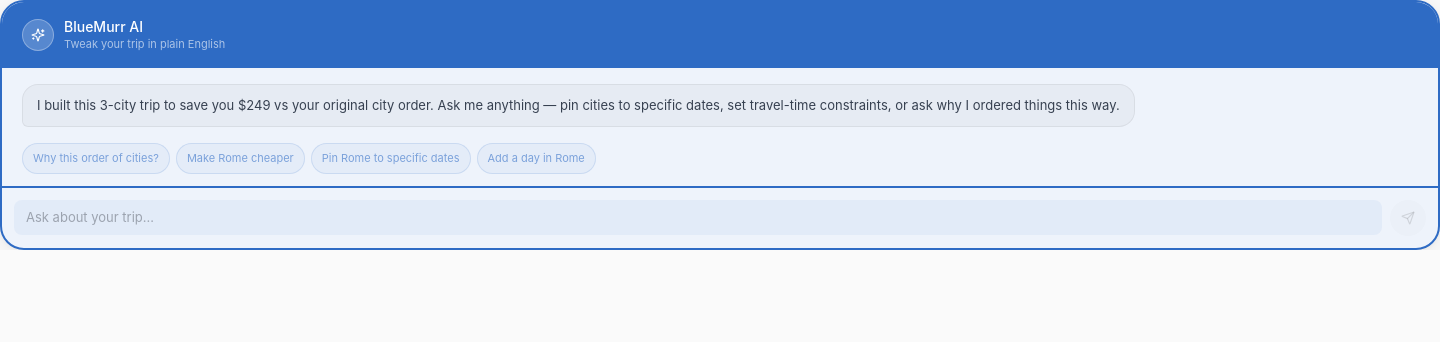
Test: a leg refresh on a trip that visits a city twice › Florence → Rome lands on Florence and the SECOND Rome, leaving the first Rome alone
Type "cheaper trains please" into the field with placeholder "Ask about your trip..." at x=698, y=218, box [14,200,1382,235]
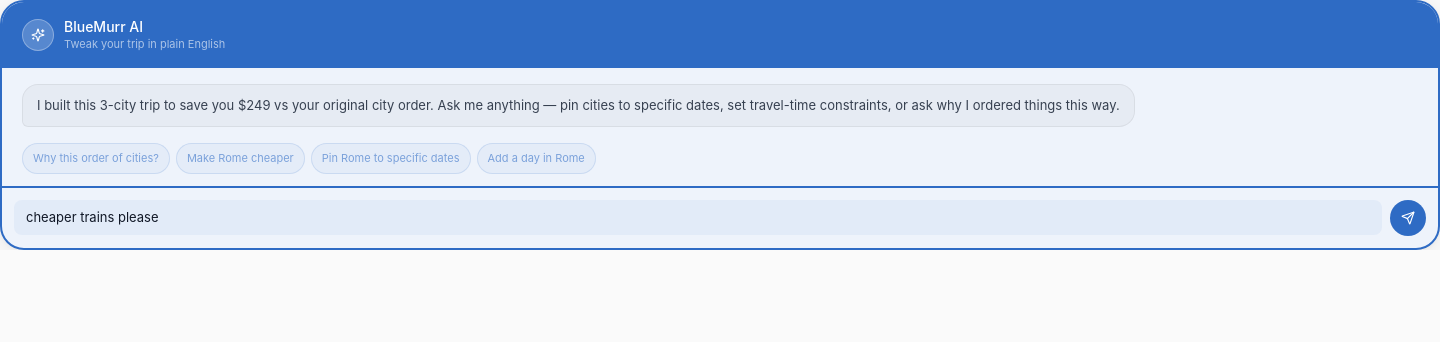
Submit the form with placeholder "Ask about your trip...", box [2,186,1438,248]
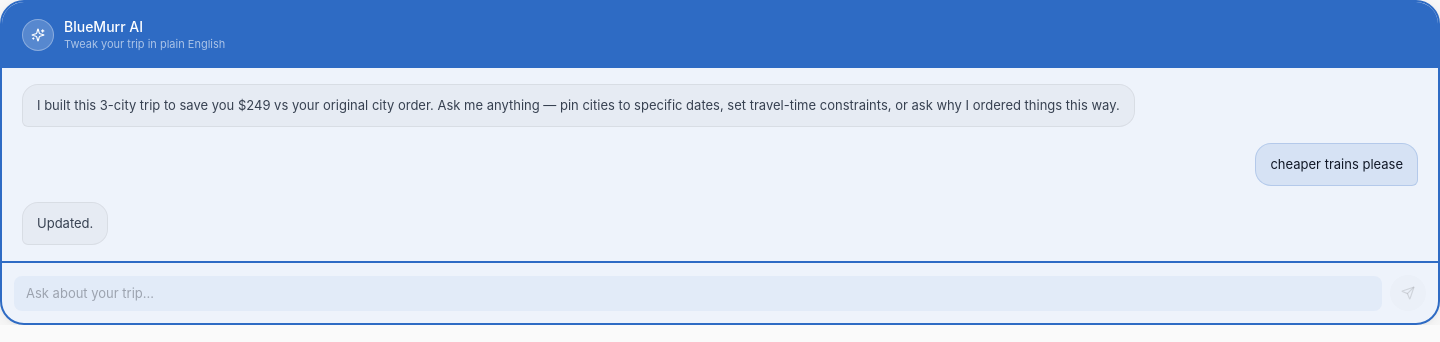
Expected: the text "Updated." is shown, [22,202,108,245]
